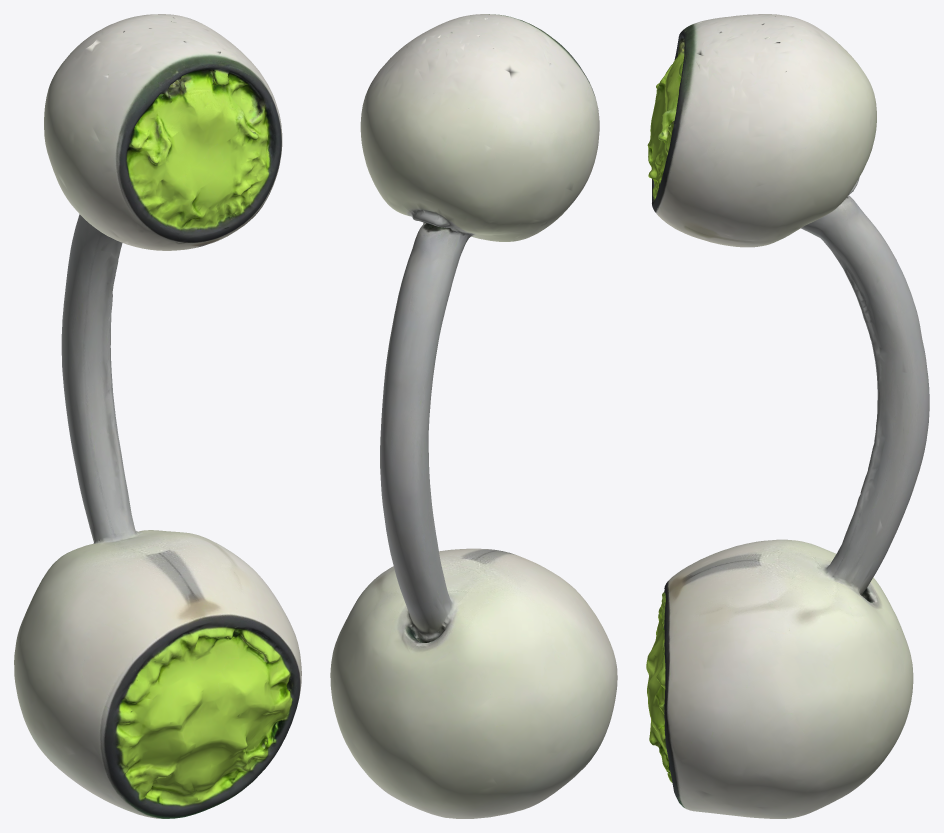
File: green_navel.glb
3 renders of one model, left to right at view 1: azimuth 30°, elevation 25°; view 2: azimuth 150°, elevation 25°; view 3: azimuth 270°, elevation 25°, orthographic.
Bounding box in the file's own units: 0.6725 × 2 × 0.6621.
1 material, 1 textured.
